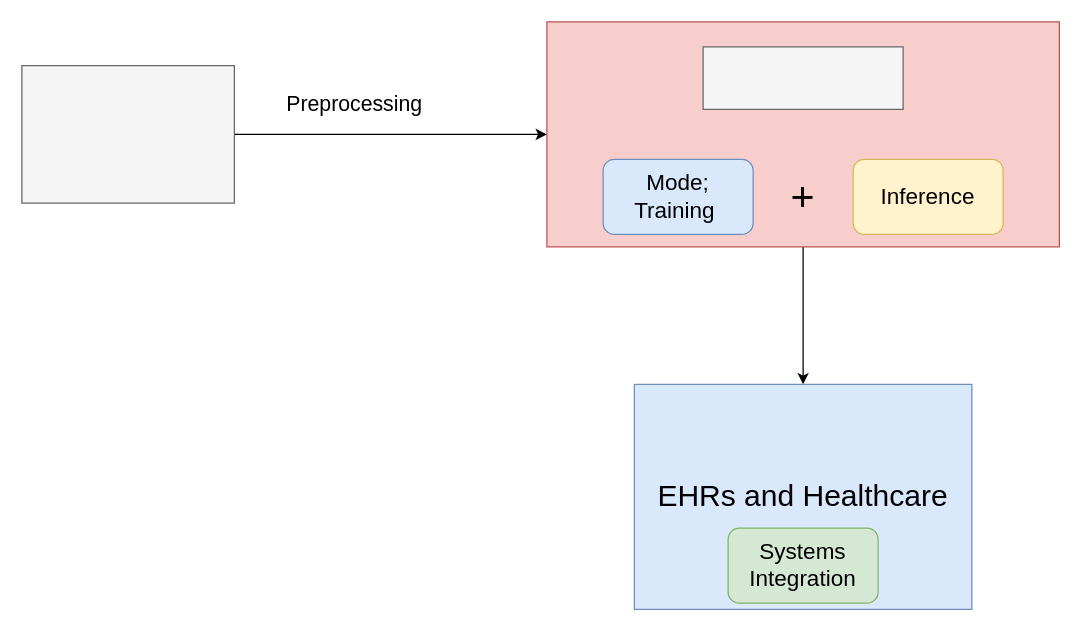
Image size: 1081x631. Some labels were removed from this diagram. The shapes that lost their labels are listed below. From the top down, each one's centre as x and y in pixels, then its label:
At point 802,77: "CNN Model".
At point 127,133: "CT Scan Dataset".
